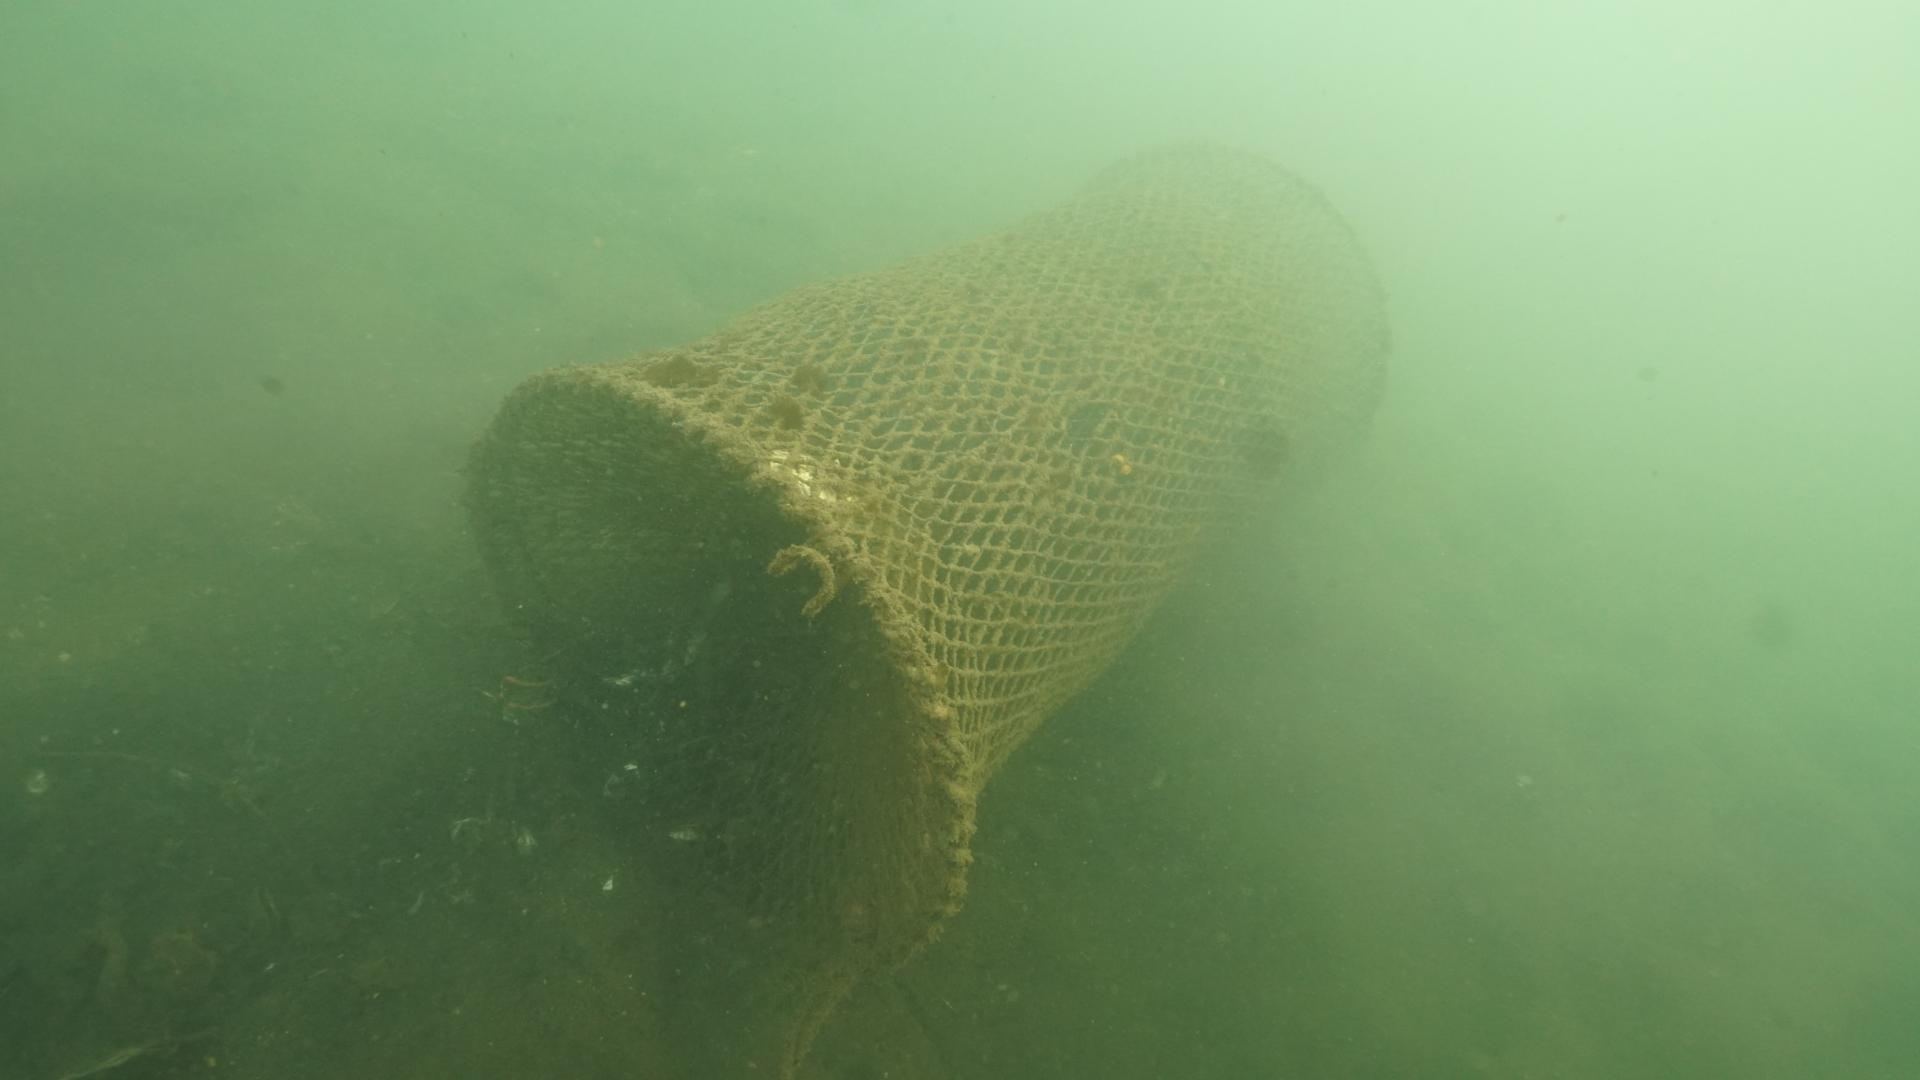spring fish trap: (458, 133, 1400, 989)
